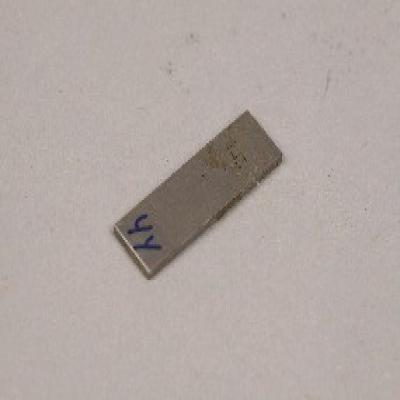technique: (111, 112, 284, 280)
